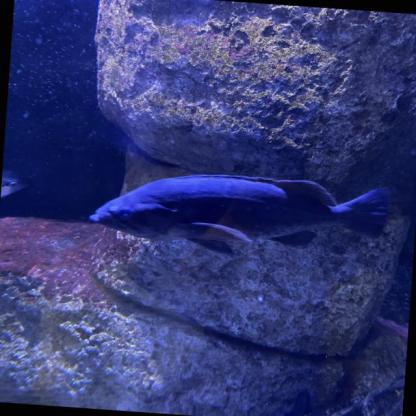fish: (88, 165, 392, 264), (0, 166, 29, 204)
